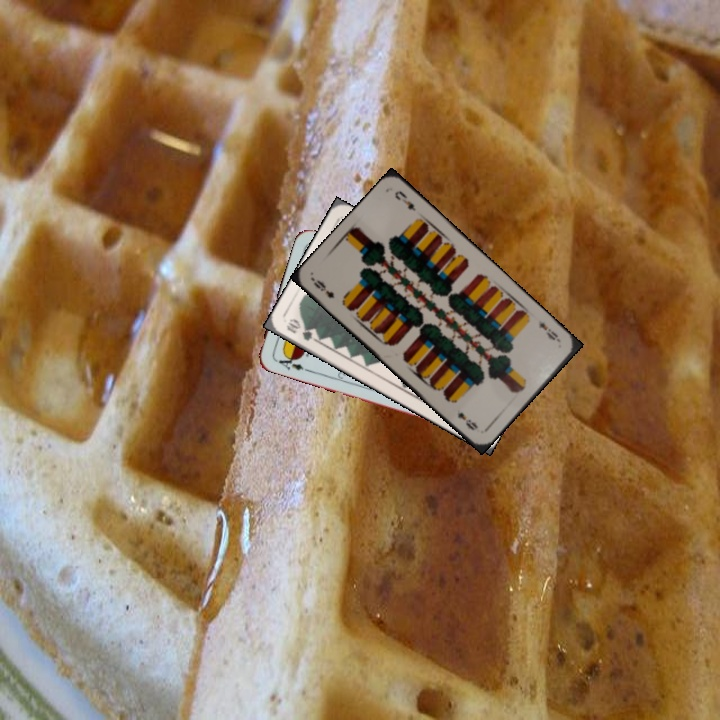E9: (534, 316, 563, 345), (309, 275, 337, 301)
EA: (271, 350, 311, 374)
G10: (282, 315, 320, 344)
